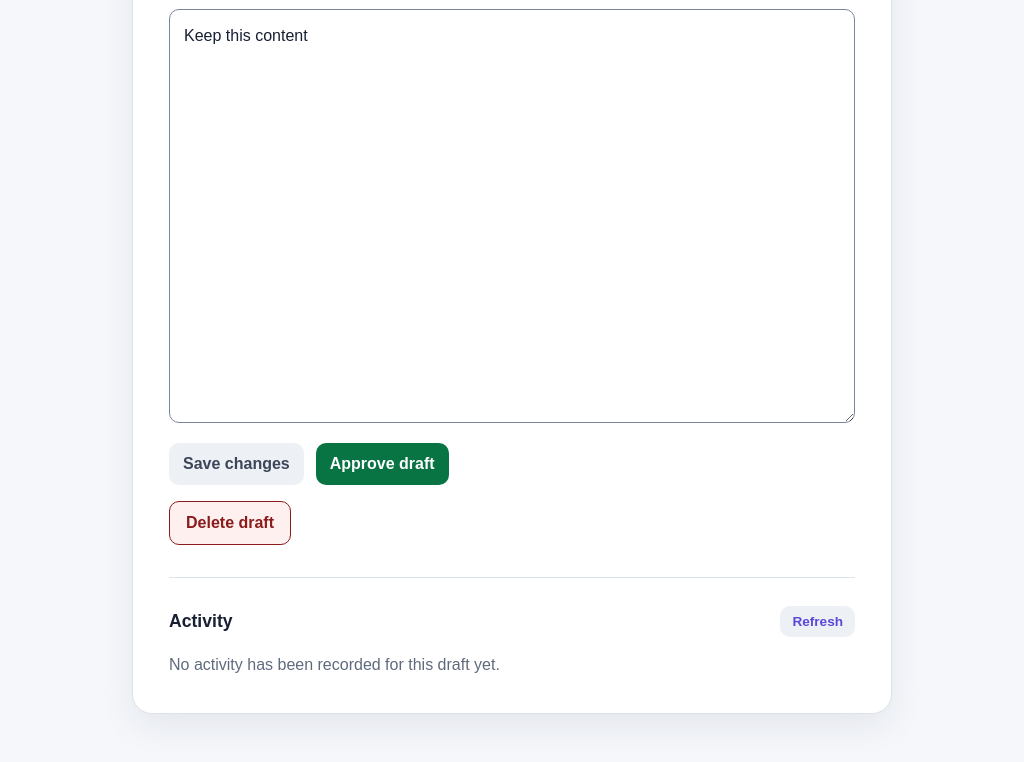
disables editing actions while deletion is pending
The width and height of the screenshot is (1024, 762).
(page scrolled)
Click the button "Delete draft".
click(230, 523)  # box top-left (169, 501), bottom-right (291, 545)
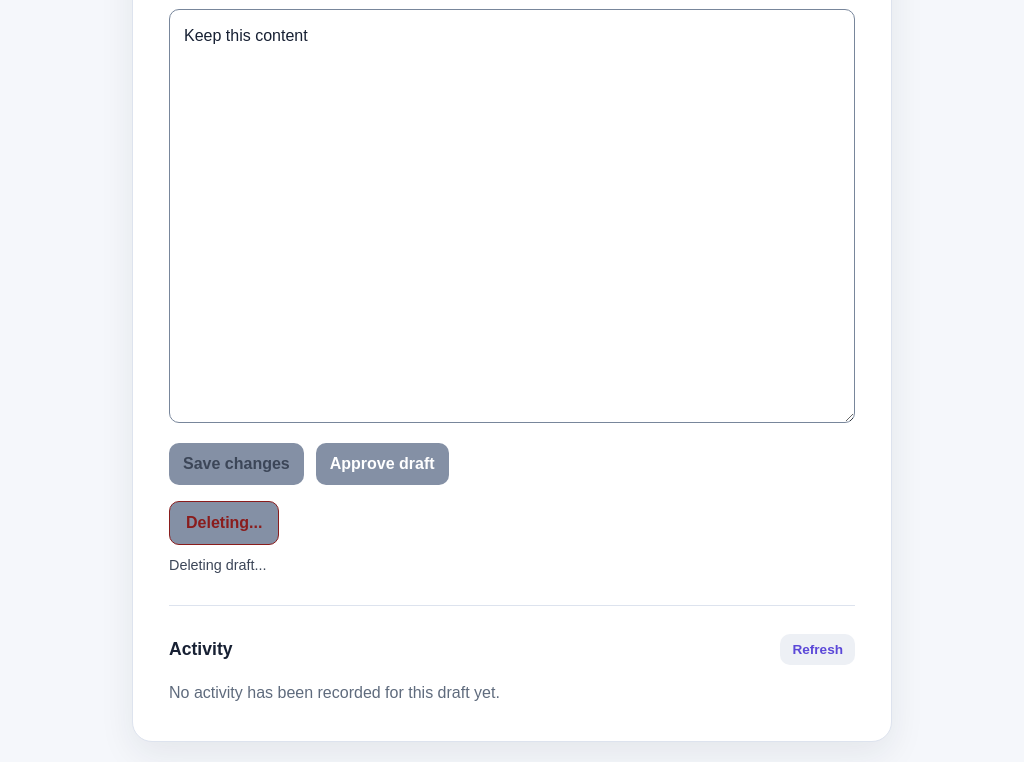
Now the button "Deleting..." is disabled, box top-left (169, 501), bottom-right (280, 545)
Now the button "Save changes" is disabled, box top-left (169, 443), bottom-right (304, 485)
Now the button "Approve draft" is disabled, box top-left (316, 443), bottom-right (449, 485)
